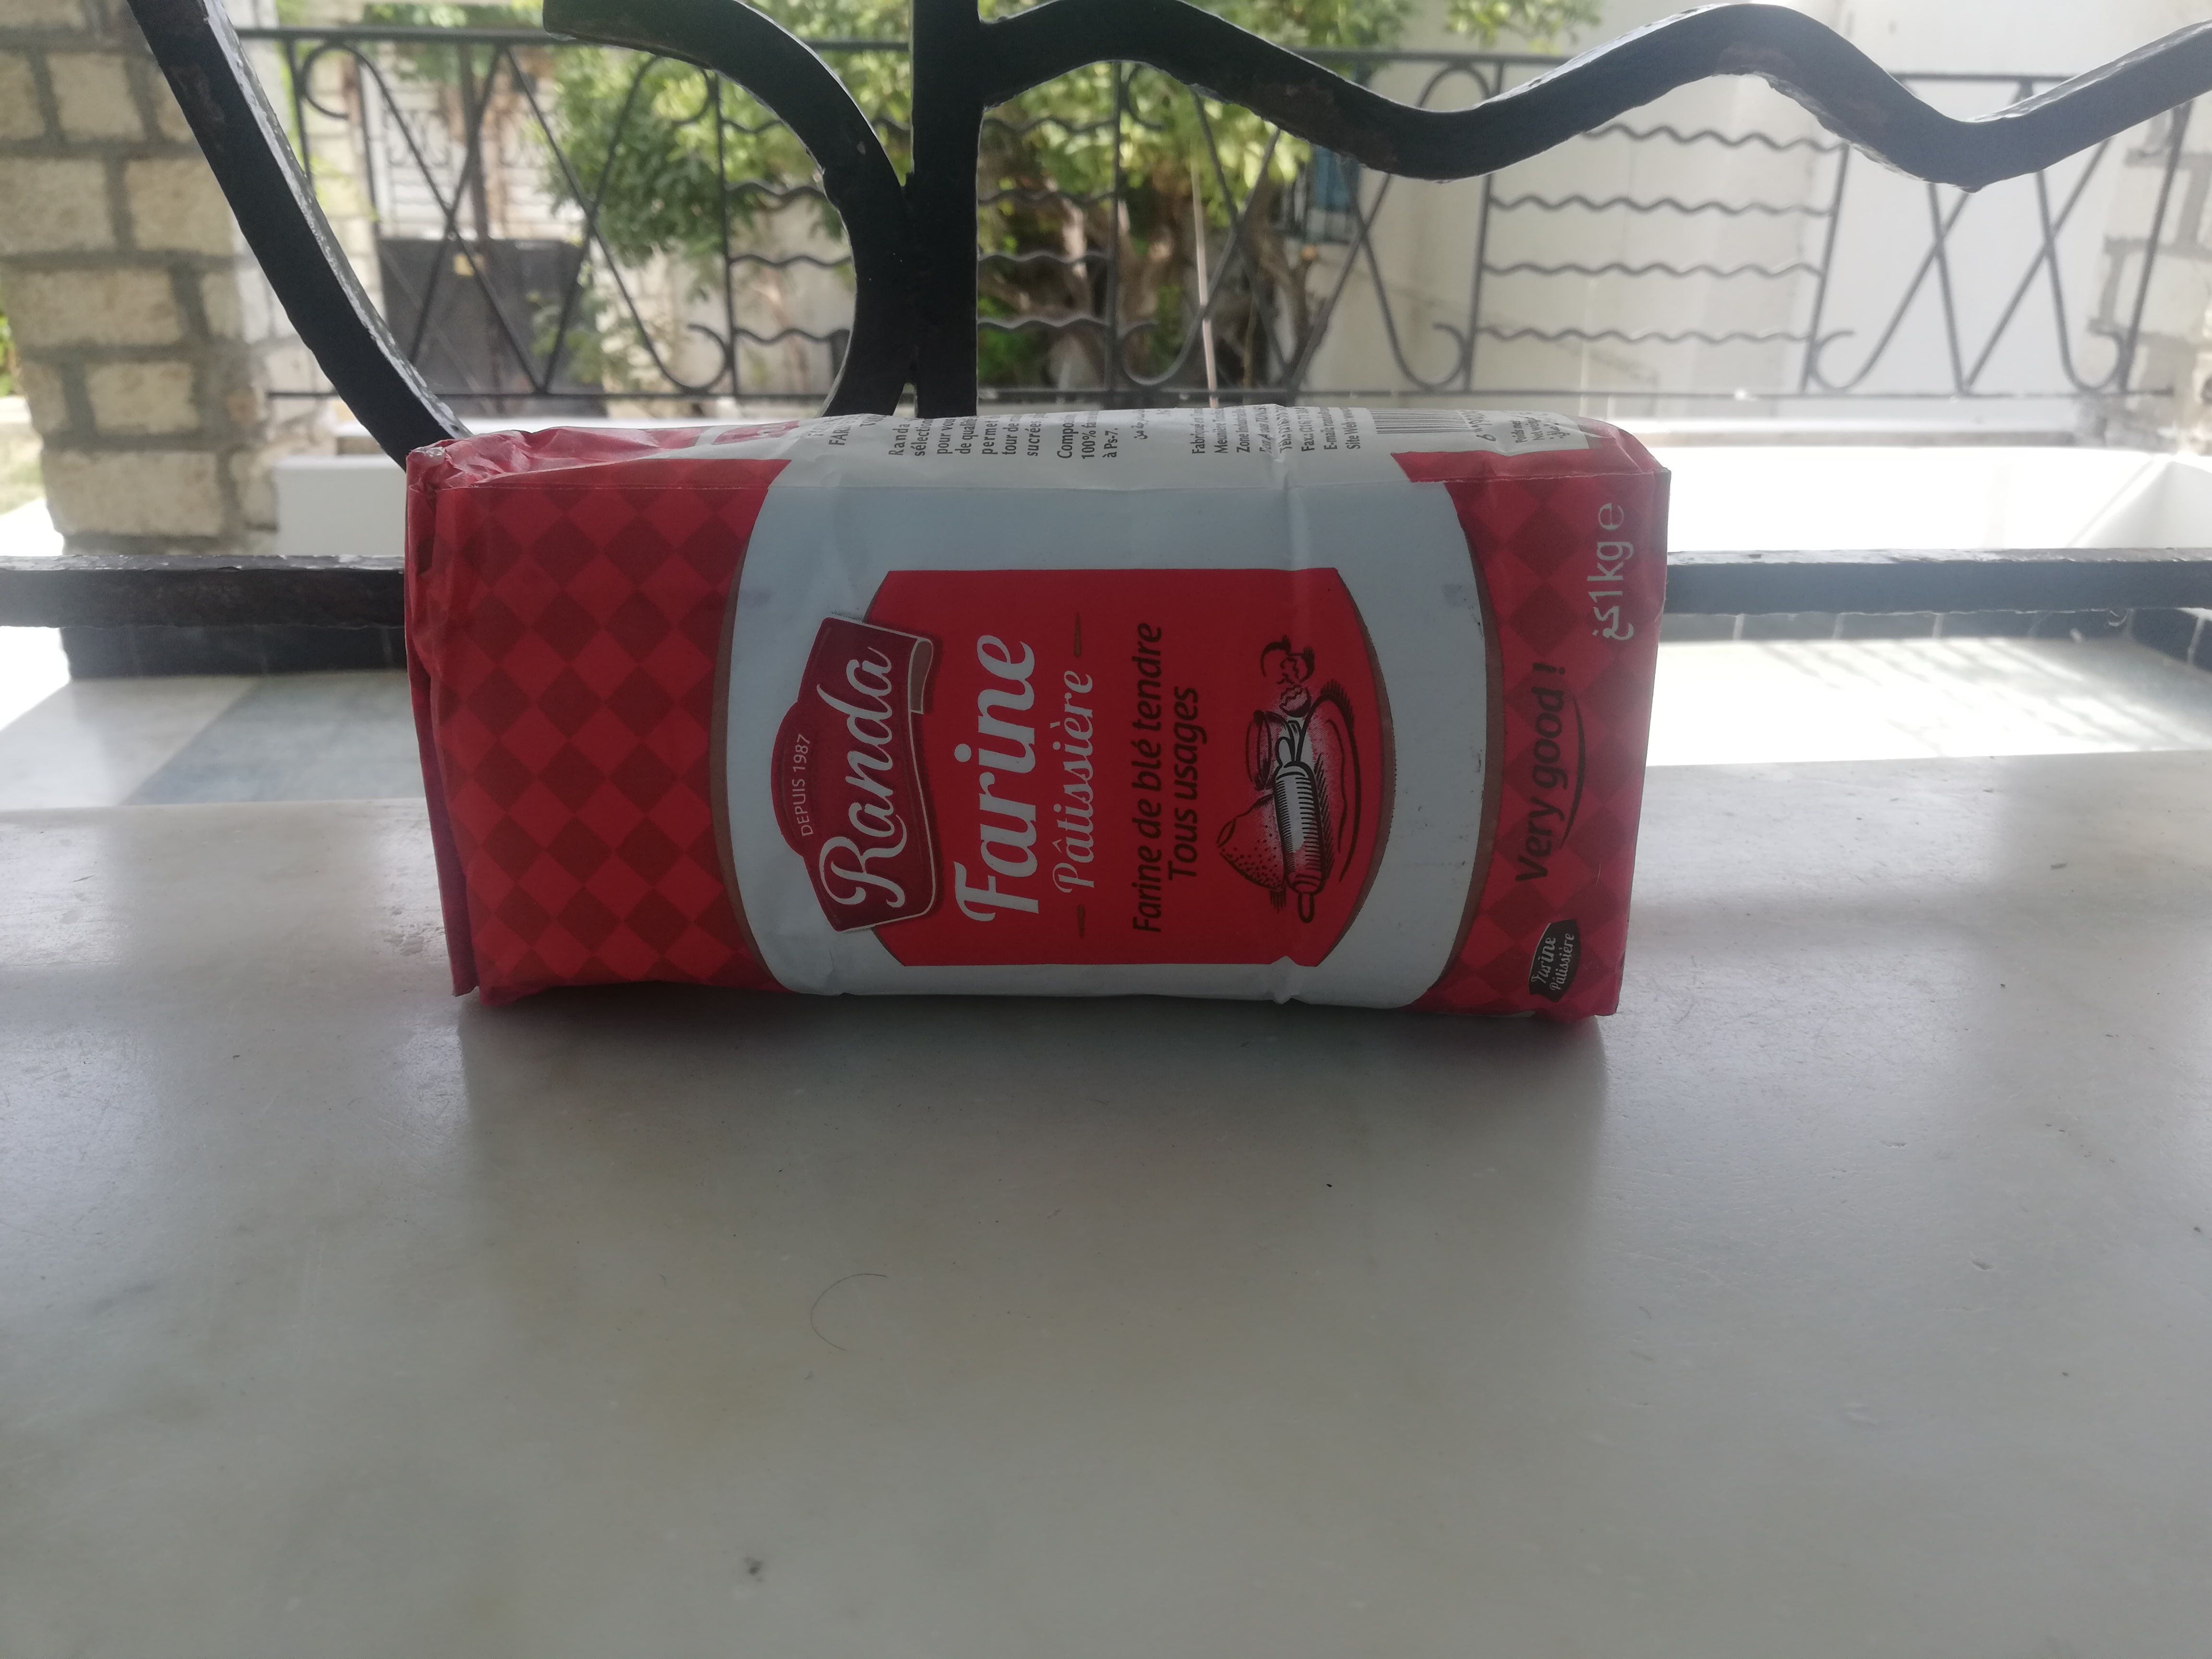Farine Randa: (399, 408, 1667, 1023)
